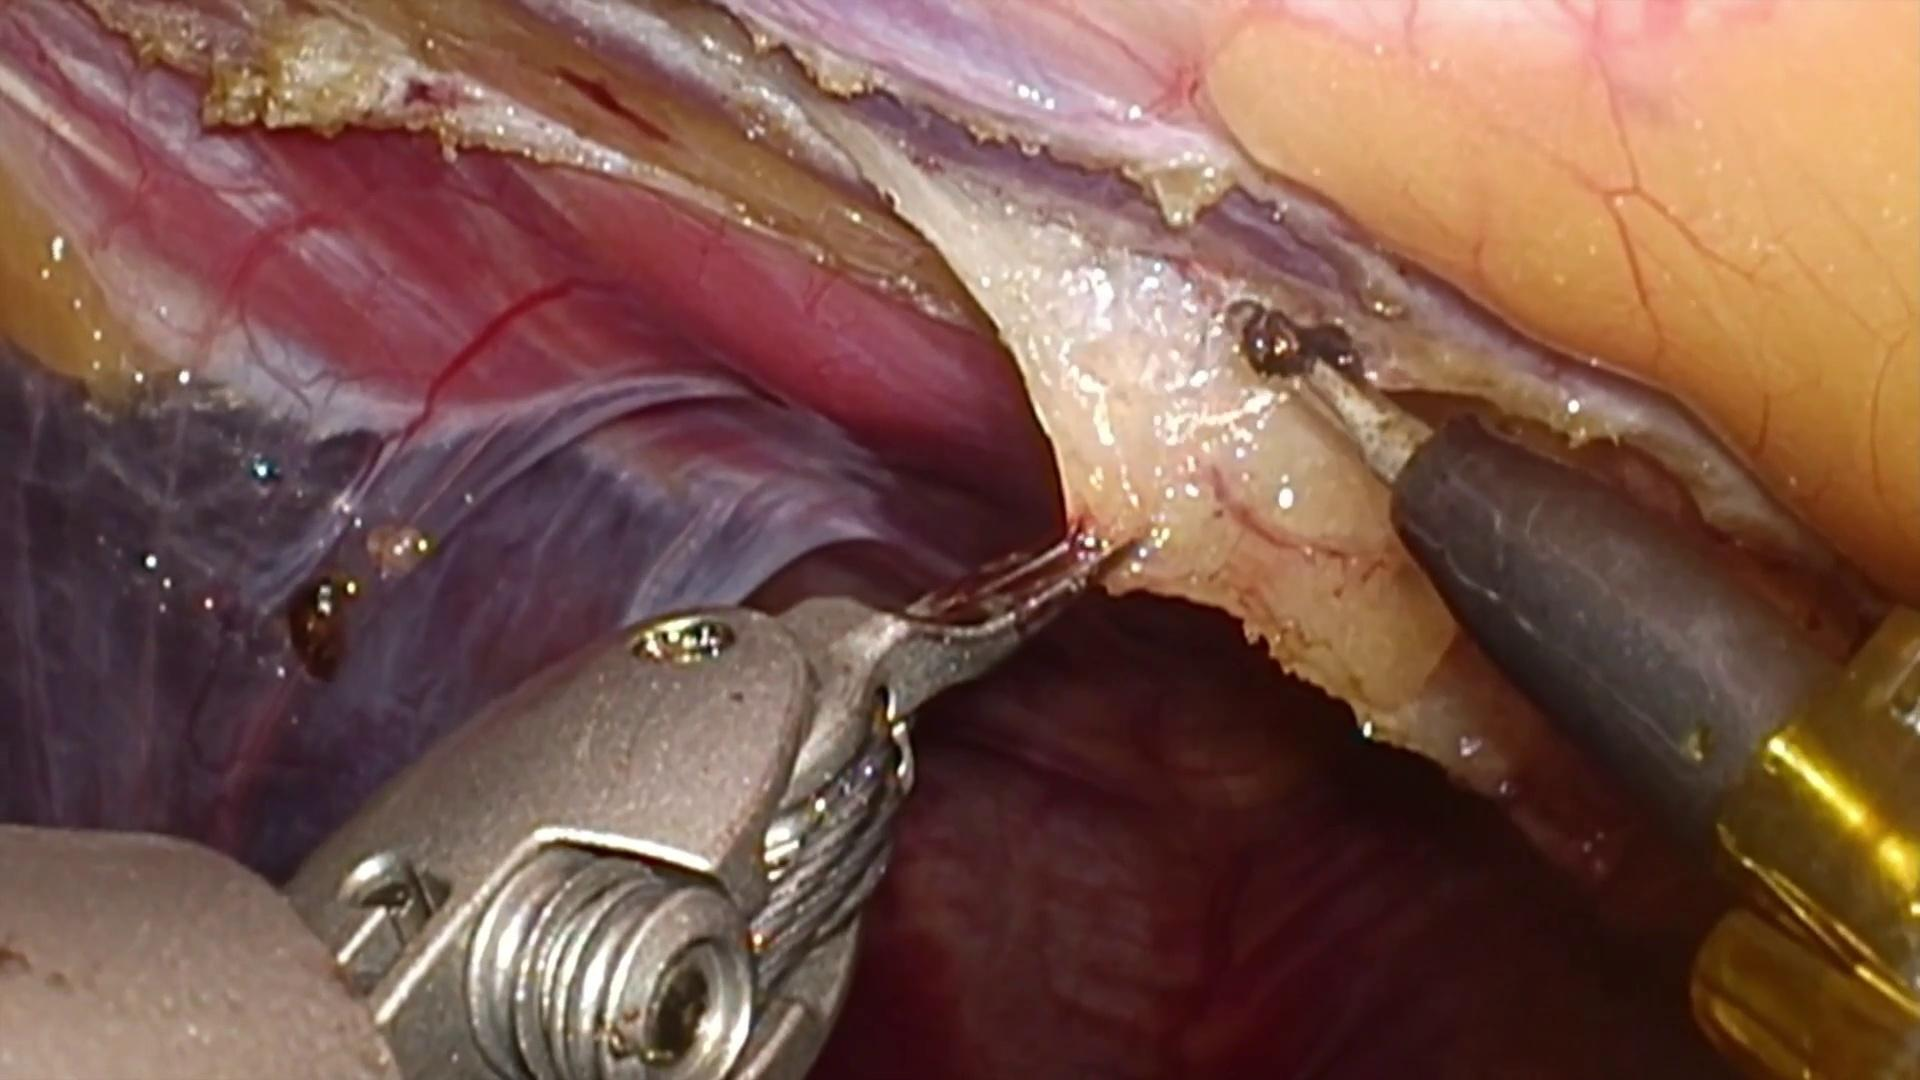Cautery_Spatula: (1244, 313, 1837, 853)
Debakey: (793, 514, 1141, 725)
